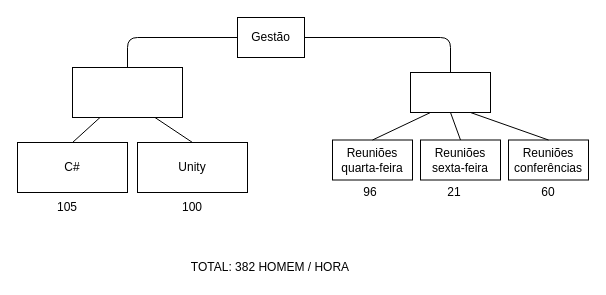
The diagram is 606 pixels wide and 295 high, and some of its shapes have lost their labels. The box of each missing label's shape, as (x1, y1, x2, y2) in pixels:
Aprender Tecnologias: (72, 66, 182, 118)
Reuniões pós aulas: (410, 72, 490, 112)
